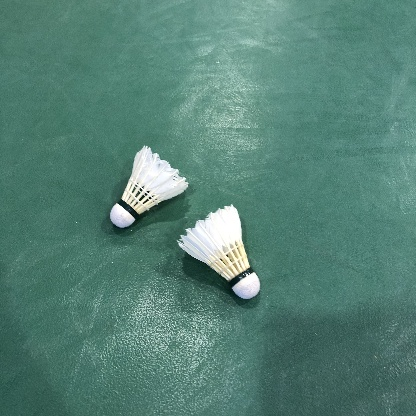ball_single: (176, 204, 260, 299), (110, 145, 189, 228)
